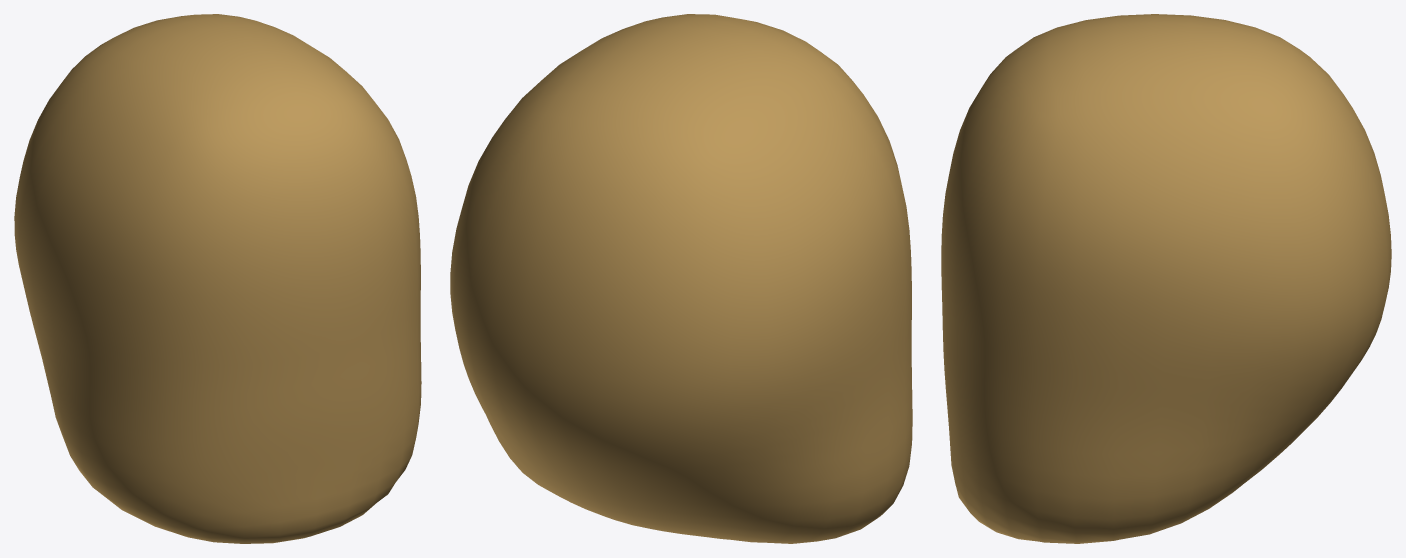
Rendered from head_head_008.gltf.
3 views of the same model, side by side, from view 1: azimuth 30°, elevation 25°; view 2: azimuth 150°, elevation 25°; view 3: azimuth 270°, elevation 25° (orthographic). The views are drawn at different scales.
Visible parts, largest first — view 1: head.008; view 2: head.008; view 3: head.008.
Boxes of the visible parts, x1,y1,x2,y2 form: head.008: [14, 14, 421, 543]; head.008: [450, 14, 912, 543]; head.008: [941, 14, 1391, 543].
Size of the model in its own units: 0.1452 by 0.1837 by 0.1593.
